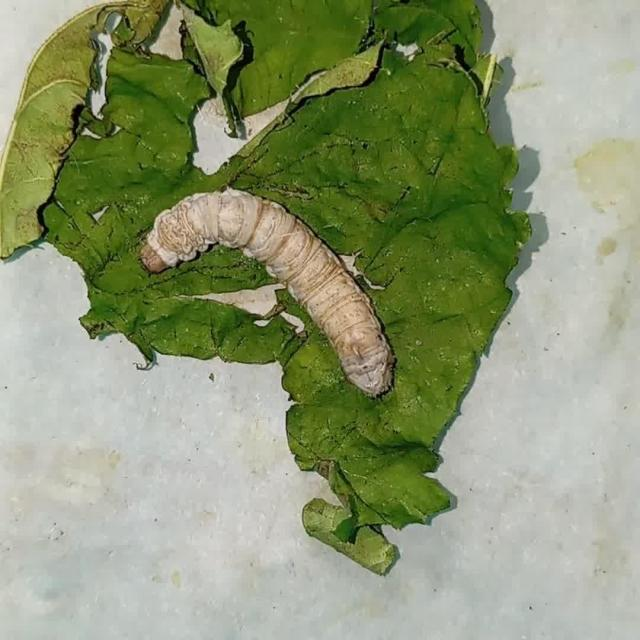Grasserie: (130, 167, 400, 403)
